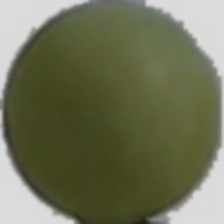grapes: (17, 7, 162, 183)
